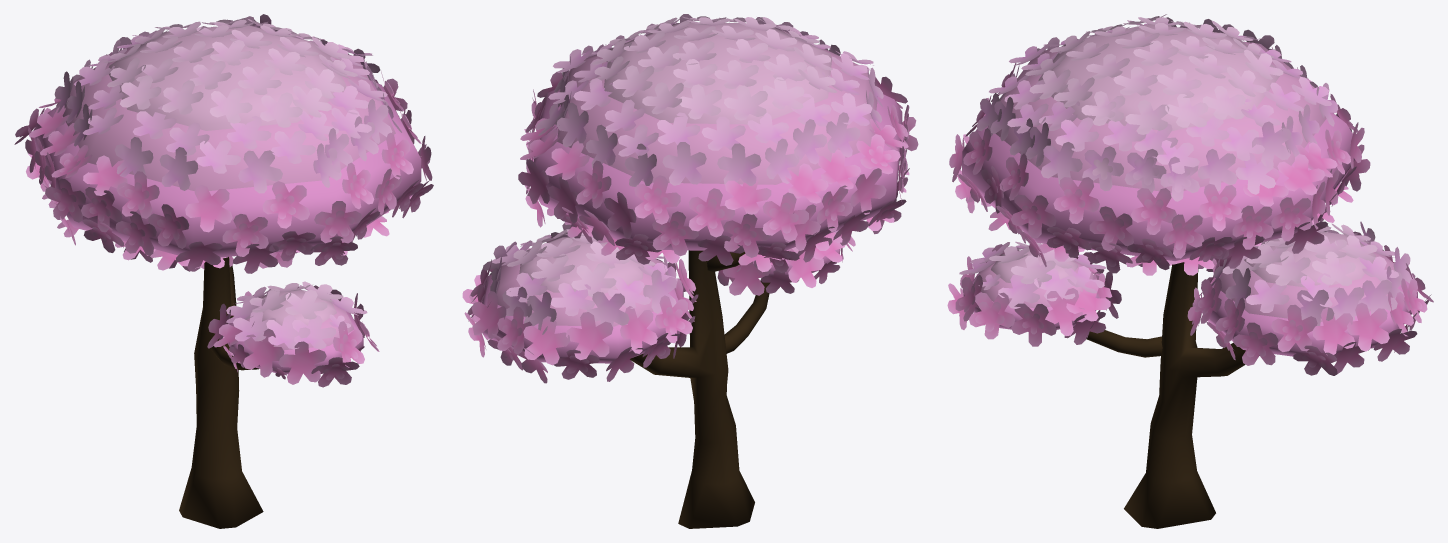
Rendered from cutepack2023cherrytree 1.fbx.
3 views of the same model, side by side, from view 1: azimuth 30°, elevation 25°; view 2: azimuth 150°, elevation 25°; view 3: azimuth 270°, elevation 25° (orthographic).
Parts seen in each view (by area): view 1: cutepack2023cherrytree.003, cutepack2023cherrytree, cutepack2023cherrytree.001; view 2: cutepack2023cherrytree.003, cutepack2023cherrytree.002, cutepack2023cherrytree.001, cutepack2023cherrytree; view 3: cutepack2023cherrytree.003, cutepack2023cherrytree.002, cutepack2023cherrytree.001, cutepack2023cherrytree.
Boxes of the visible parts, <box> form: cutepack2023cherrytree.003: <box>14,14,433,273</box>; cutepack2023cherrytree: <box>207,281,379,387</box>; cutepack2023cherrytree.001: <box>179,256,263,528</box>; cutepack2023cherrytree.003: <box>518,14,918,272</box>; cutepack2023cherrytree.002: <box>462,223,698,383</box>; cutepack2023cherrytree.001: <box>630,250,770,528</box>; cutepack2023cherrytree: <box>717,230,855,295</box>; cutepack2023cherrytree.003: <box>949,14,1370,275</box>; cutepack2023cherrytree.002: <box>1187,221,1433,375</box>; cutepack2023cherrytree.001: <box>1086,262,1245,528</box>; cutepack2023cherrytree: <box>947,241,1121,346</box>.
Size of the model in its own units: 542 by 670 by 623.
